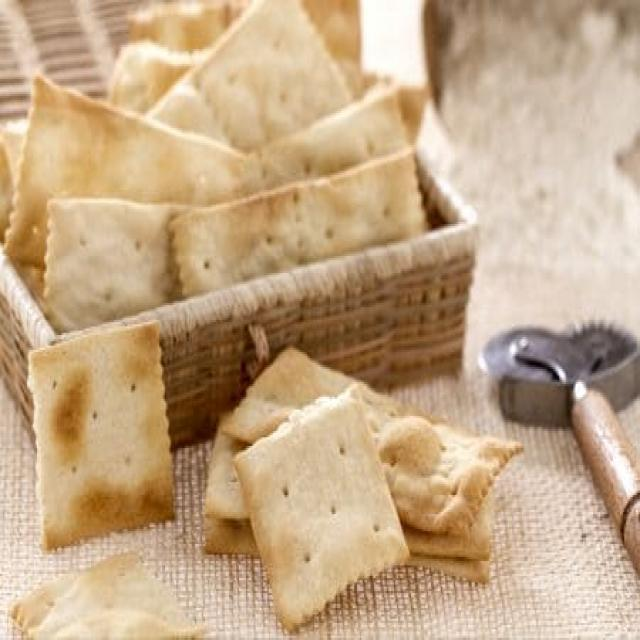Cracker: (235, 388, 414, 622), (29, 335, 197, 553)
